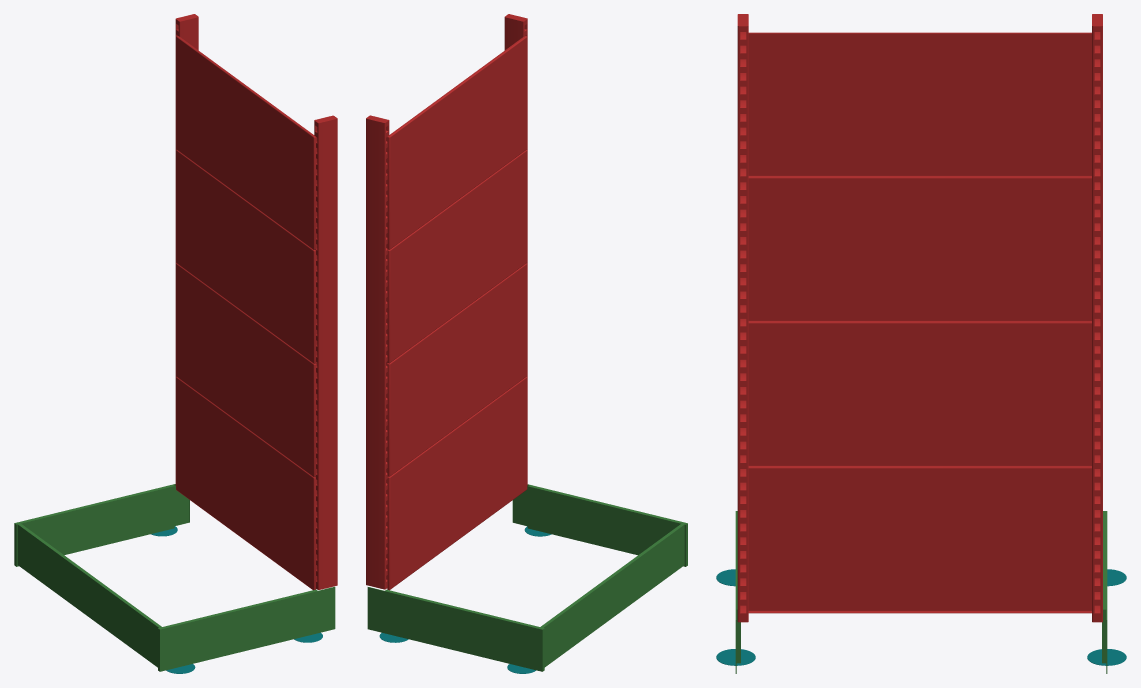
The model's file is SM_Shelves_Base_07.fbx.
3 renders of one model, left to right at view 1: azimuth 30°, elevation 25°; view 2: azimuth 150°, elevation 25°; view 3: azimuth 270°, elevation 25°, orthographic. The views are drawn at different scales.
Parts seen in each view (by area): view 1: SM_Shelves_Base_07; view 2: SM_Shelves_Base_07; view 3: SM_Shelves_Base_07.
Part boxes in pixels (x1,y1,x2,y2): SM_Shelves_Base_07: [14, 14, 337, 673]; SM_Shelves_Base_07: [366, 14, 687, 673]; SM_Shelves_Base_07: [716, 14, 1126, 673].
Size of the model in its own units: 73.23 by 200 by 114.
